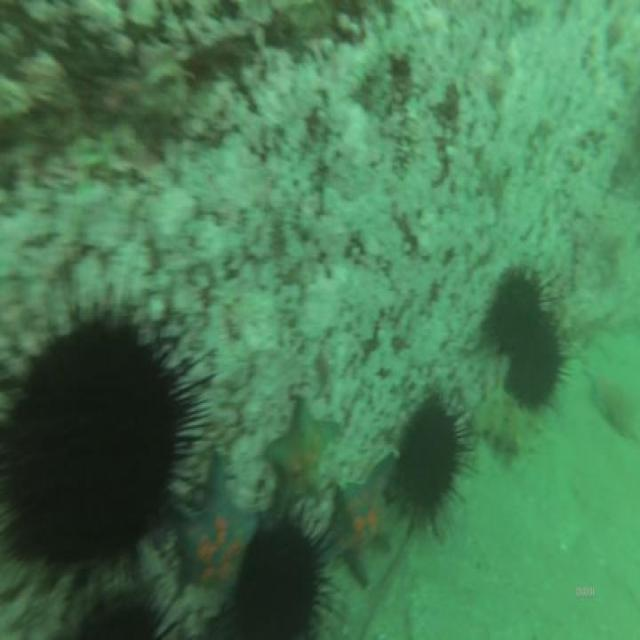echinus: (1, 319, 180, 571), (239, 529, 321, 640), (393, 403, 459, 515), (508, 324, 562, 414), (492, 272, 538, 348)
starfish: (180, 452, 260, 597), (326, 452, 391, 583), (264, 406, 337, 507)
